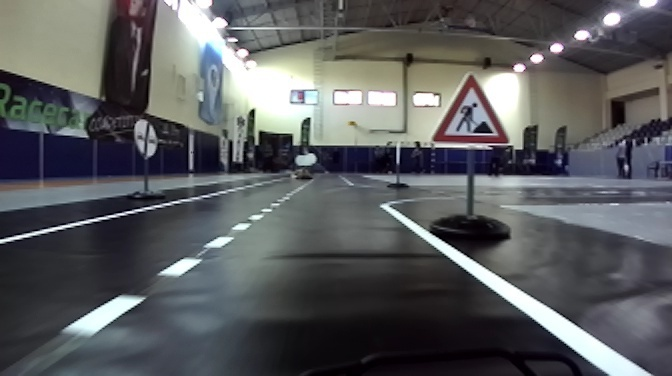yol_yapimi: (420, 79, 515, 150)
